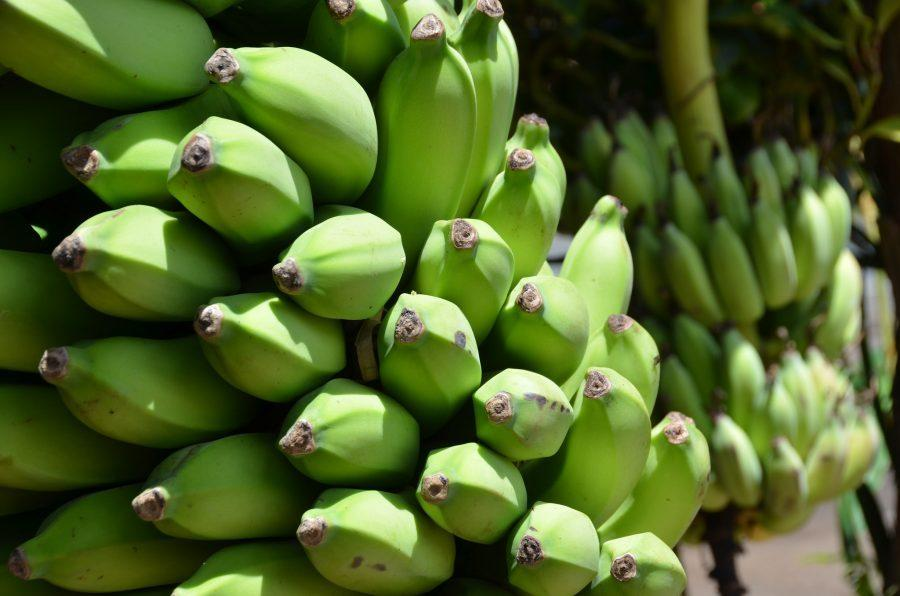Banana Unripe: (0, 0, 890, 596)
